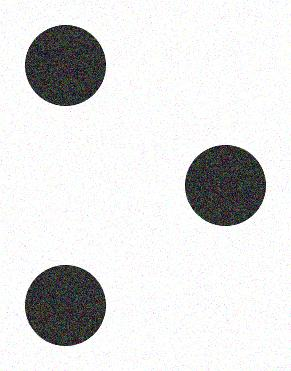O: (18, 18, 271, 352)
